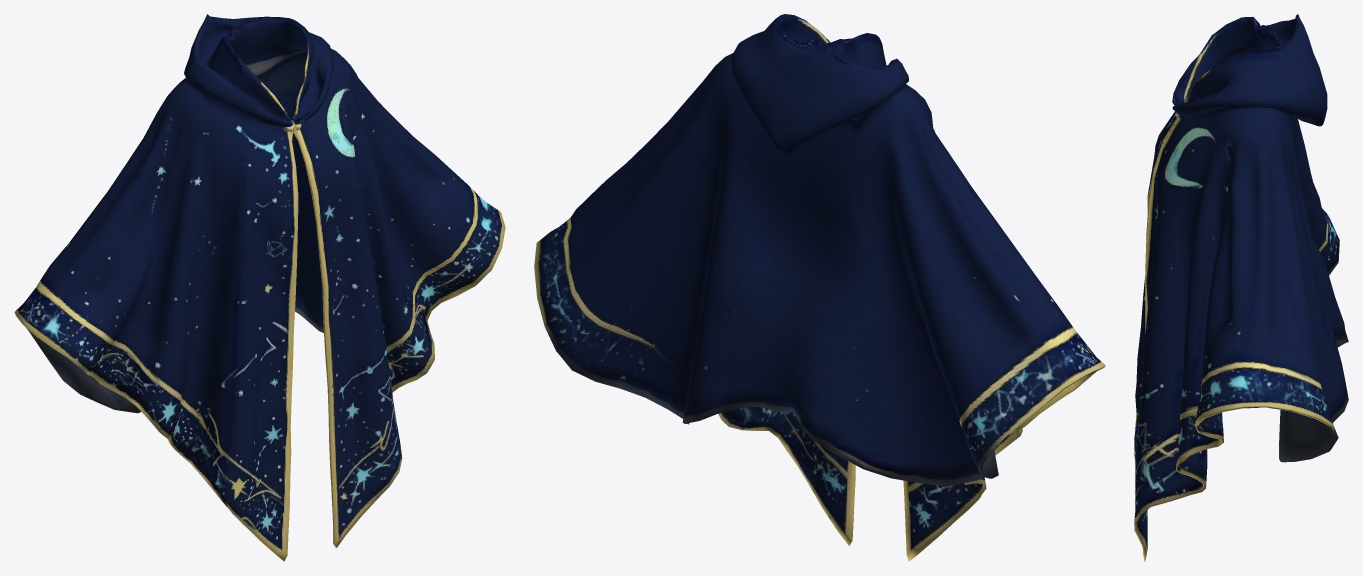
The model's file is astral-cape.glb.
The picture shows the model from 3 angles, left to right: view 1: azimuth 30°, elevation 25°; view 2: azimuth 150°, elevation 25°; view 3: azimuth 270°, elevation 25°; orthographic projection. The views are drawn at different scales.
Parts seen in each view (by area): view 1: tripo_node_507061c5-41e3-46d4-9e72-4fc35162cf5b; view 2: tripo_node_507061c5-41e3-46d4-9e72-4fc35162cf5b; view 3: tripo_node_507061c5-41e3-46d4-9e72-4fc35162cf5b.
Boxes of the visible parts, <box> form: tripo_node_507061c5-41e3-46d4-9e72-4fc35162cf5b: <box>14,14,505,561</box>; tripo_node_507061c5-41e3-46d4-9e72-4fc35162cf5b: <box>534,14,1105,561</box>; tripo_node_507061c5-41e3-46d4-9e72-4fc35162cf5b: <box>1134,14,1348,561</box>.
Size of the model in its own units: 0.9778 by 0.9778 by 0.3655.
Materials: 1 (1 with a texture image).
